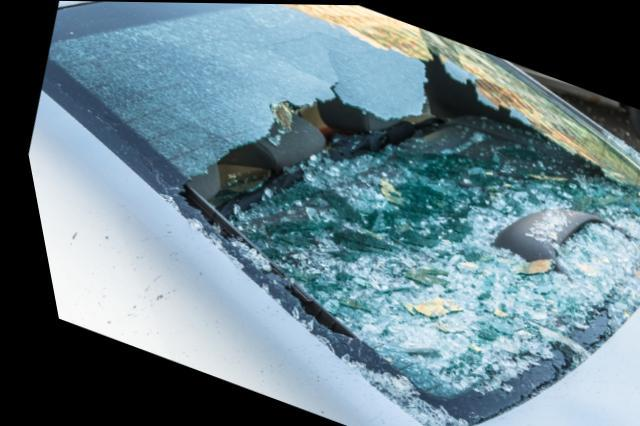glass shatter: (39, 1, 640, 426)
